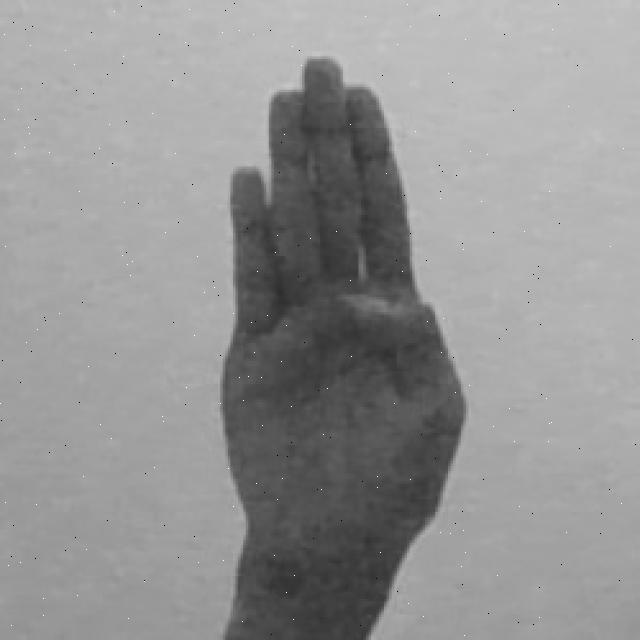B: (216, 54, 468, 640)
